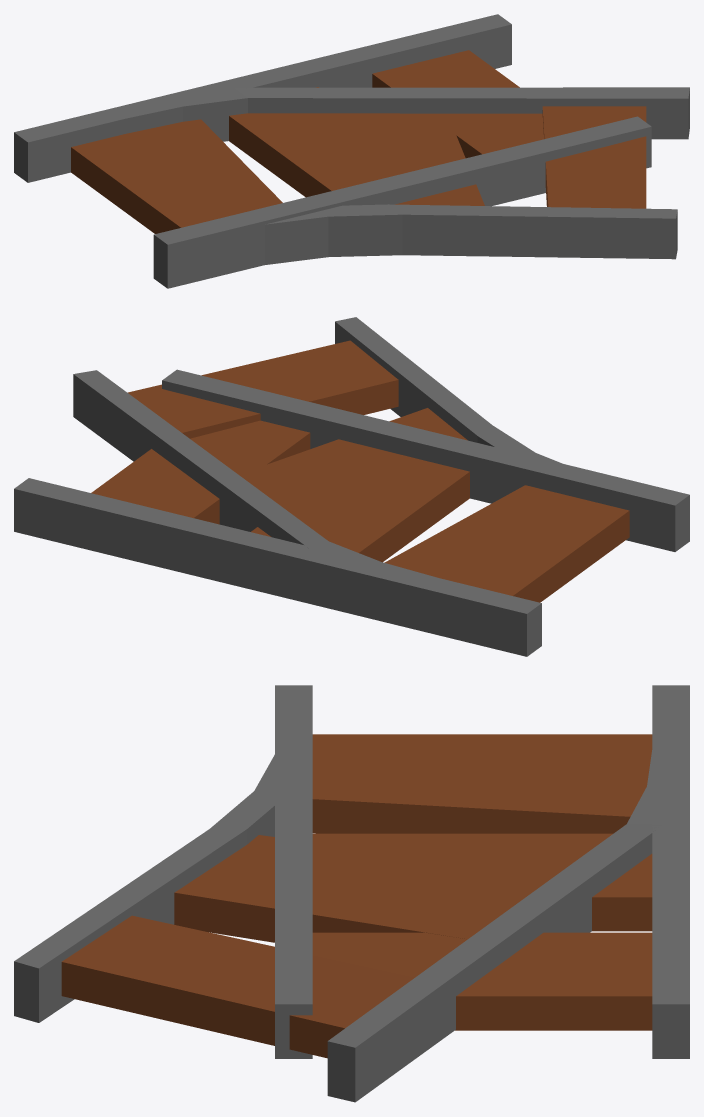
File: rail_split.fbx
3 views of the same model, one above another, from view 1: azimuth 30°, elevation 25°; view 2: azimuth 150°, elevation 25°; view 3: azimuth 270°, elevation 25° (orthographic). The views are drawn at different scales.
Parts seen in each view (by area): view 1: Cube, Cube.001, Cube.010, Cube.009, Cube.008, Cube.003, Cube.004, Cube.006, Cube.007, Cube.002; view 2: Cube.009, Cube.001, Cube.010, Cube.007, Cube.008, Cube.003, Cube.004, Cube, Cube.006, Cube.002; view 3: Cube.003, Cube.001, Cube.004, Cube.006, Cube.008, Cube.007, Cube.002, Cube.010, Cube, Cube.009.
Part boxes in pixels (box(x1,y1,x2,y2)): Cube: box(153, 204, 677, 288); Cube.001: box(14, 87, 689, 182); Cube.010: box(153, 116, 651, 284); Cube.009: box(15, 14, 511, 182); Cube.008: box(229, 87, 413, 197); Cube.003: box(104, 119, 282, 226); Cube.004: box(542, 106, 646, 208); Cube.006: box(372, 50, 543, 158); Cube.007: box(71, 129, 276, 233); Cube.002: box(355, 113, 484, 205); Cube.009: box(14, 478, 538, 656); Cube.001: box(73, 370, 541, 656); Cube.010: box(162, 369, 689, 547); Cube.007: box(412, 486, 629, 602); Cube.008: box(251, 460, 469, 562); Cube.003: box(384, 485, 627, 588); Cube.004: box(127, 340, 398, 438); Cube: box(335, 317, 689, 551); Cube.006: box(91, 420, 310, 524); Cube.002: box(239, 408, 467, 524); Cube.003: box(312, 735, 651, 833); Cube.001: box(327, 685, 689, 1102); Cube.004: box(61, 915, 414, 1058); Cube.006: box(312, 932, 652, 1030); Cube.008: box(312, 833, 652, 931); Cube.007: box(312, 734, 652, 797); Cube.002: box(174, 835, 525, 942); Cube.010: box(275, 685, 312, 1058); Cube: box(14, 754, 274, 1022); Cube.009: box(652, 685, 689, 1058).
Size of the model in its own units: 1140 by 88.84 by 896.
